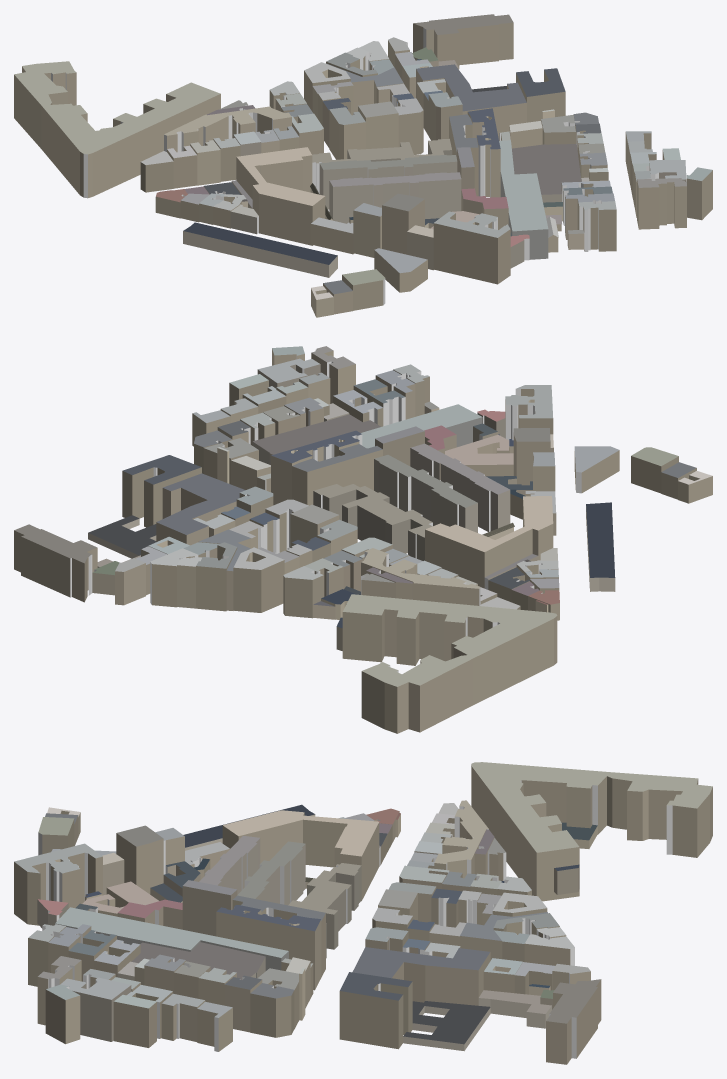
3 renders of one model, top to bottom at view 1: azimuth 30°, elevation 25°; view 2: azimuth 150°, elevation 25°; view 3: azimuth 270°, elevation 25°, orthographic. The views are drawn at different scales.
Visible parts, largest first — view 1: tuile; view 2: tuile; view 3: tuile.
Part boxes in pixels (left/top/right/bottom): tuile: left=14, top=14, right=712, bottom=317; tuile: left=14, top=346, right=712, bottom=733; tuile: left=14, top=762, right=712, bottom=1064.
Bounding box in the file's own units: 284 × 36.11 × 327.
